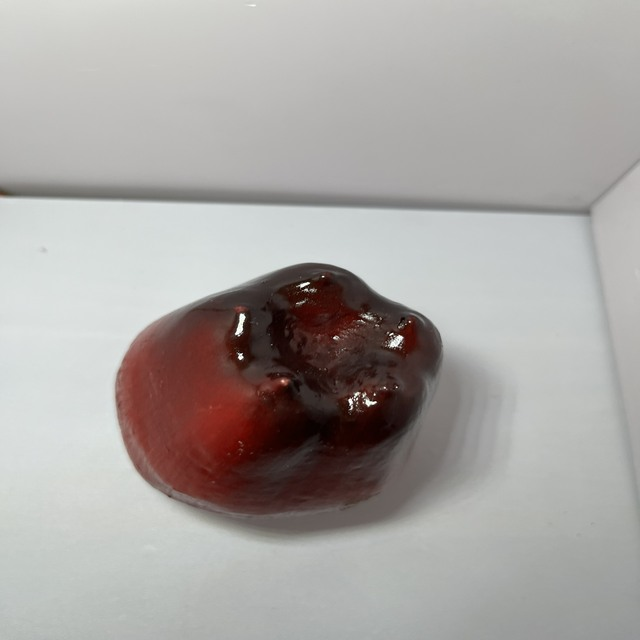Tao: (104, 250, 453, 528)
